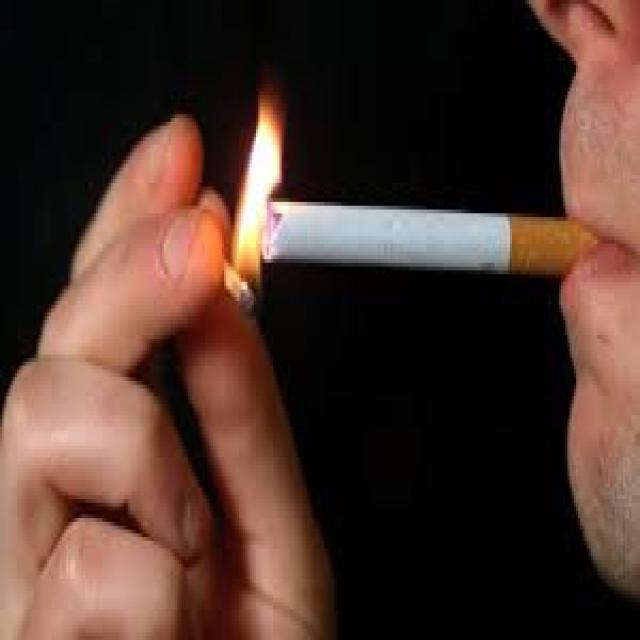fire: (231, 81, 285, 286)
